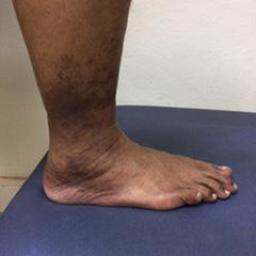Lateral View -Right Foot-: (37, 98, 240, 218)
